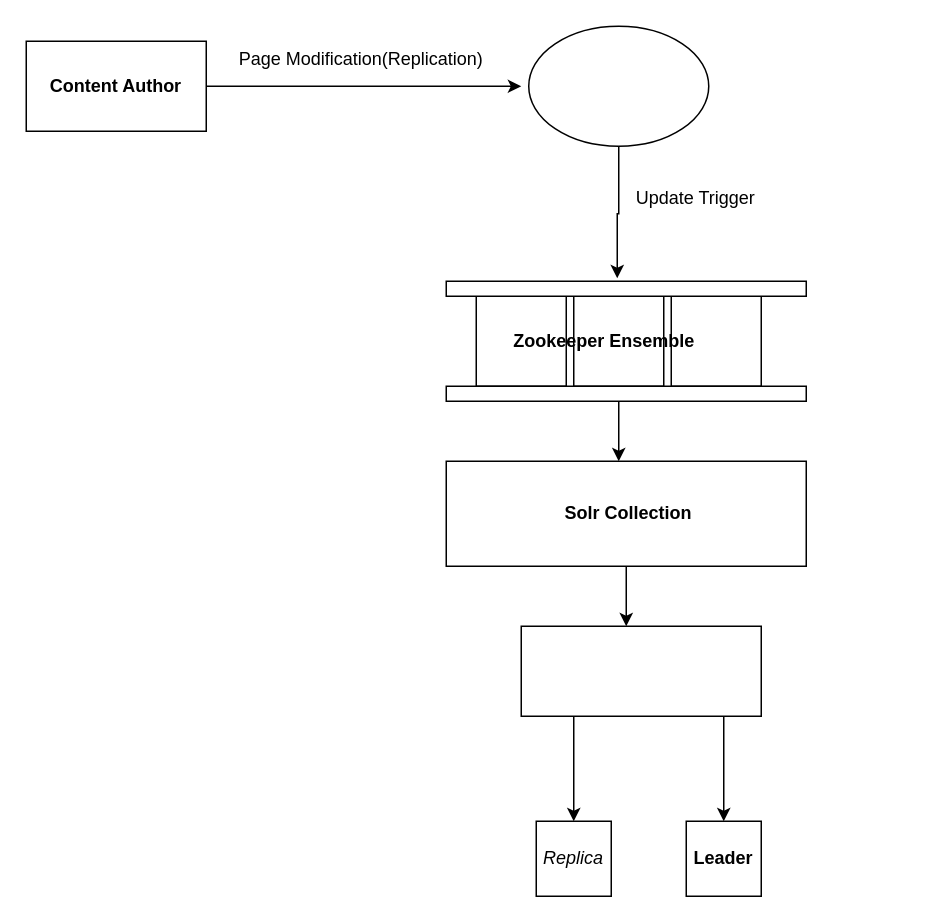
Image size: 927x923. Some labels were removed from this diagram. Here are the shapes that lost their labels. From the top down, the centre of each, then its label:
point (618, 85): Publisher
point (640, 670): Shard
